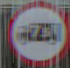Heavy Vehicles: (10, 7, 60, 57)
